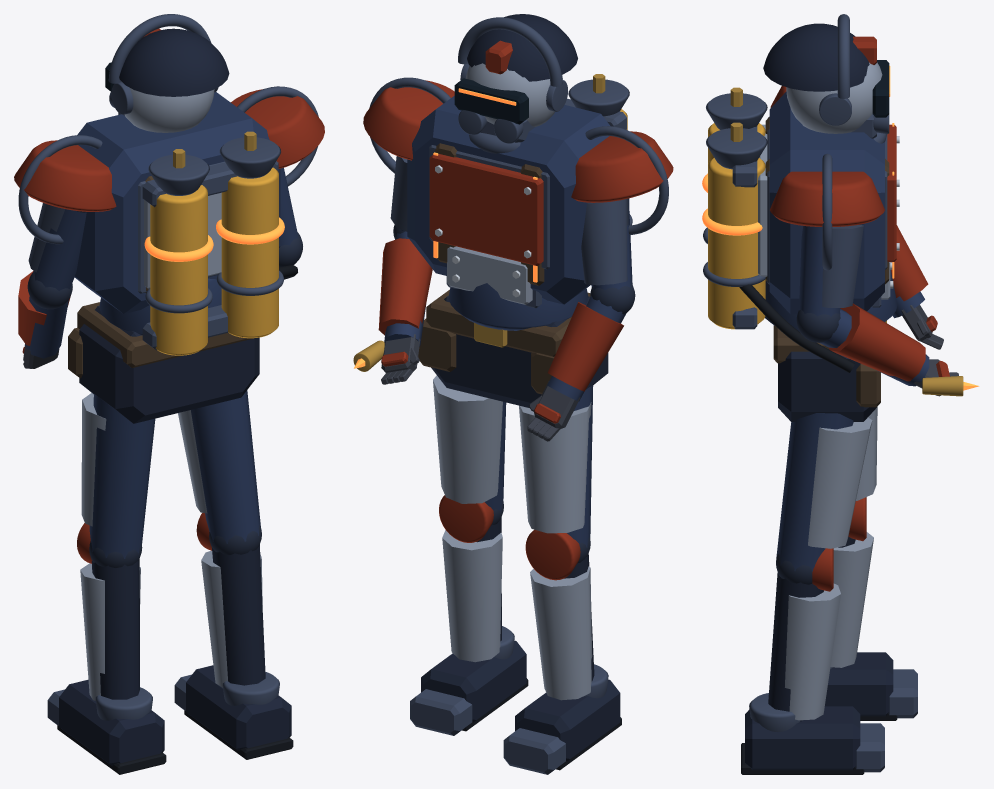
Rendered from hero_ember.glb.
3 renders of one model, left to right at view 1: azimuth 30°, elevation 25°; view 2: azimuth 150°, elevation 25°; view 3: azimuth 270°, elevation 25°, orthographic.
Parts seen in each view (by area): view 1: hero_ember_chest, hero_ember_pelvis, hero_ember_tank-1, hero_ember_tank1, hero_ember_thigh_l, hero_ember_thigh_r, hero_ember_hood, hero_ember_shin_r, hero_ember_shin_l, hero_ember_boot_l, hero_ember_boot_r, hero_ember_pauldron-1 (+36 smaller); view 2: hero_ember_chest, hero_ember_chest_plate_face, hero_ember_thigh_plate_r, hero_ember_thigh_plate_l, hero_ember_greave_l, hero_ember_greave_r, hero_ember_pelvis, hero_ember_pauldron-1, hero_ember_boot_l, hero_ember_boot_r, hero_ember_bracer_r, hero_ember_bicep_plate_l (+32 smaller); view 3: hero_ember_chest, hero_ember_tank1, hero_ember_boot_r, hero_ember_greave_r, hero_ember_thigh_plate_r, hero_ember_thigh_r, hero_ember_pauldron1, hero_ember_hood, hero_ember_pelvis, hero_ember_bracer_r, hero_ember_greave_l, hero_ember_boot_l (+33 smaller).
Part boxes in pixels (<box>): hero_ember_chest: <box>74,92,280,313</box>; hero_ember_pelvis: <box>79,305,259,423</box>; hero_ember_tank-1: <box>150,185,207,355</box>; hero_ember_tank1: <box>221,167,278,338</box>; hero_ember_thigh_l: <box>89,394,155,558</box>; hero_ember_thigh_r: <box>191,390,260,543</box>; hero_ember_hood: <box>119,28,229,96</box>; hero_ember_shin_r: <box>212,544,265,685</box>; hero_ember_shin_l: <box>91,559,139,699</box>; hero_ember_boot_l: <box>59,680,164,765</box>; hero_ember_boot_r: <box>186,665,291,750</box>; hero_ember_pauldron-1: <box>14,140,116,211</box>; hero_ember_chest: <box>407,96,629,304</box>; hero_ember_chest_plate_face: <box>429,153,543,265</box>; hero_ember_thigh_plate_r: <box>433,375,502,503</box>; hero_ember_thigh_plate_l: <box>519,402,591,533</box>; hero_ember_greave_l: <box>530,566,592,700</box>; hero_ember_greave_r: <box>442,530,502,662</box>; hero_ember_pelvis: <box>431,295,608,407</box>; hero_ember_pauldron-1: <box>571,131,673,202</box>; hero_ember_boot_l: <box>515,679,620,761</box>; hero_ember_boot_r: <box>421,640,526,722</box>; hero_ember_bracer_r: <box>378,238,432,335</box>; hero_ember_bicep_plate_l: <box>581,198,628,285</box>; hero_ember_chest: <box>769,91,884,314</box>; hero_ember_tank1: <box>708,158,765,329</box>; hero_ember_boot_r: <box>745,706,860,770</box>; hero_ember_greave_r: <box>785,583,840,720</box>; hero_ember_thigh_plate_r: <box>808,417,872,548</box>; hero_ember_thigh_r: <box>776,413,853,571</box>; hero_ember_pauldron1: <box>770,171,884,226</box>; hero_ember_hood: <box>763,23,869,91</box>; hero_ember_pelvis: <box>778,351,876,421</box>; hero_ember_bracer_r: <box>829,303,925,381</box>; hero_ember_greave_l: <box>830,532,873,667</box>; hero_ember_boot_l: <box>825,652,893,716</box>.
Bounding box in the file's own units: 0.8436 × 1.92 × 0.674.
